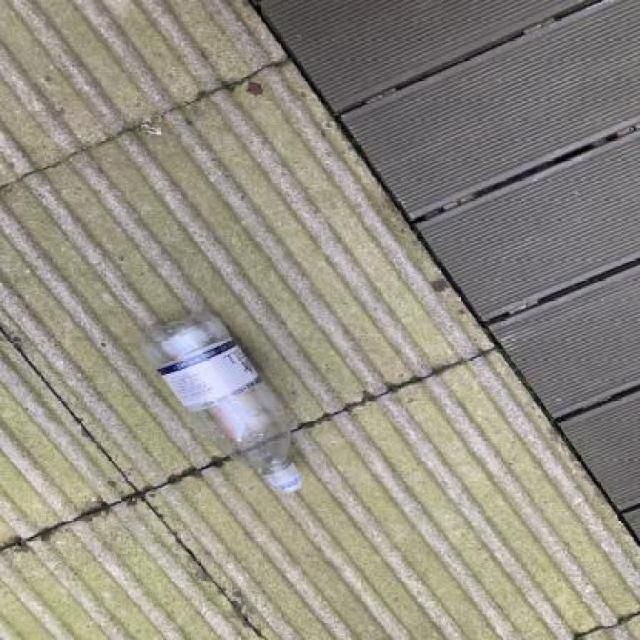trash: (138, 308, 311, 501)
